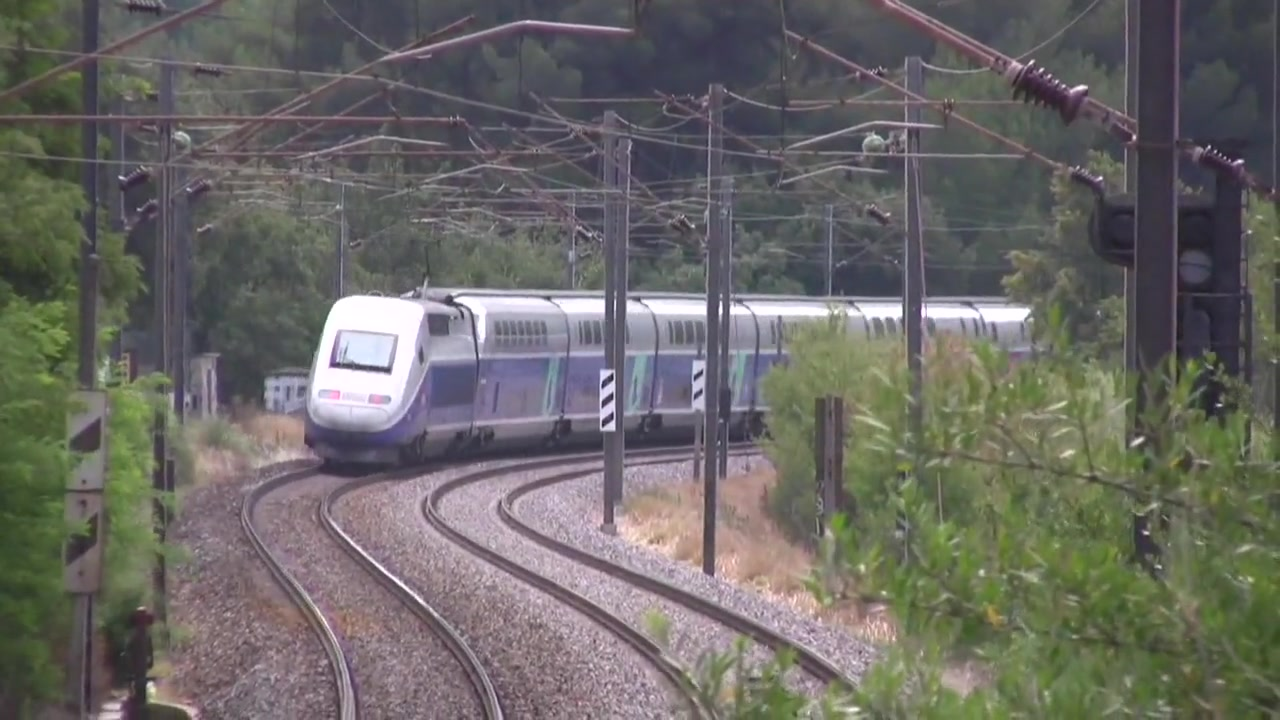train: (303, 286, 1042, 474)
